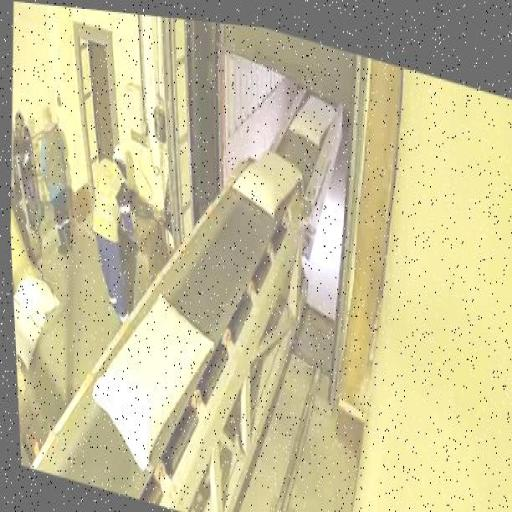c-belt-sack-count: (93, 295, 212, 469), (234, 153, 301, 216), (290, 97, 335, 147)
